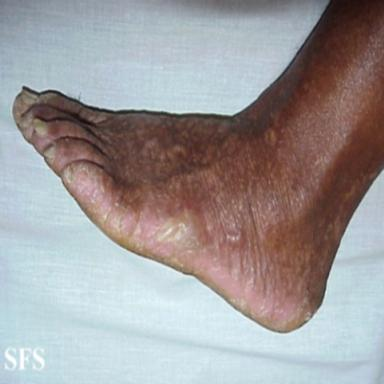Darier_s-Disease: (62, 163, 315, 333), (13, 90, 55, 139)
